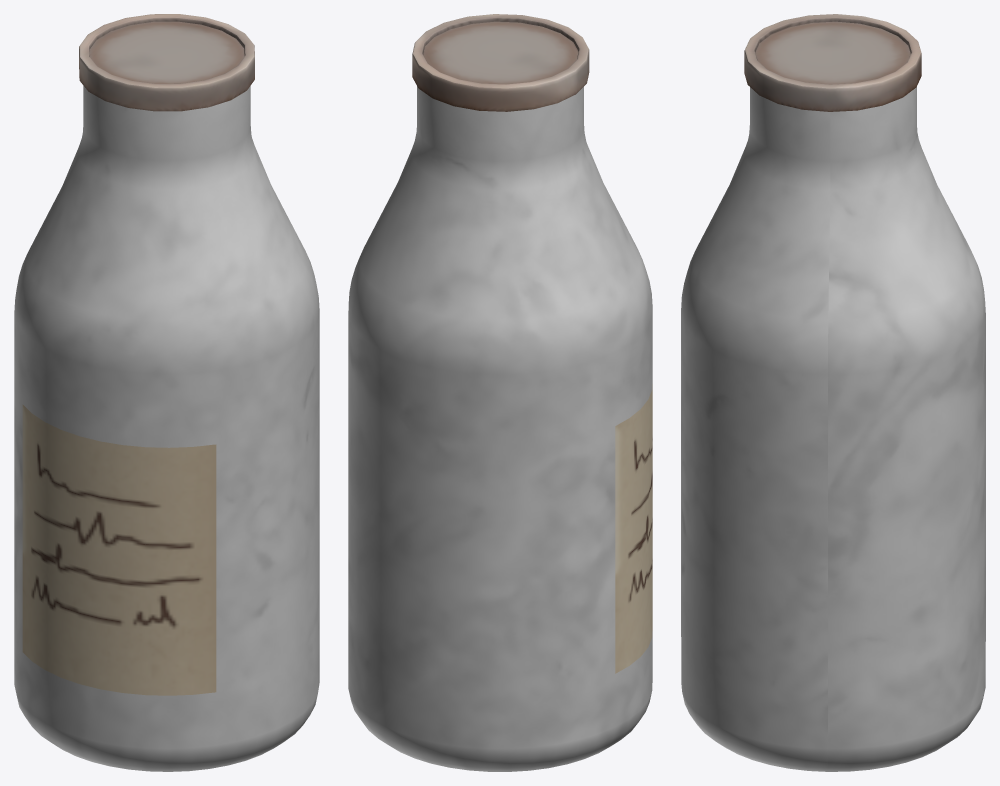
File: SM_FoodPot_05.fbx
3 renders of one model, left to right at view 1: azimuth 30°, elevation 25°; view 2: azimuth 150°, elevation 25°; view 3: azimuth 270°, elevation 25°, orthographic.
Parts seen in each view (by area): view 1: SM_FoodPot_05_LOD0; view 2: SM_FoodPot_05_LOD0; view 3: SM_FoodPot_05_LOD0.
Part boxes in pixels (<box>): SM_FoodPot_05_LOD0: <box>14,14,319,771</box>; SM_FoodPot_05_LOD0: <box>348,14,652,771</box>; SM_FoodPot_05_LOD0: <box>681,14,985,771</box>.
Size of the model in its own units: 8.29 by 8.29 by 20.21.
